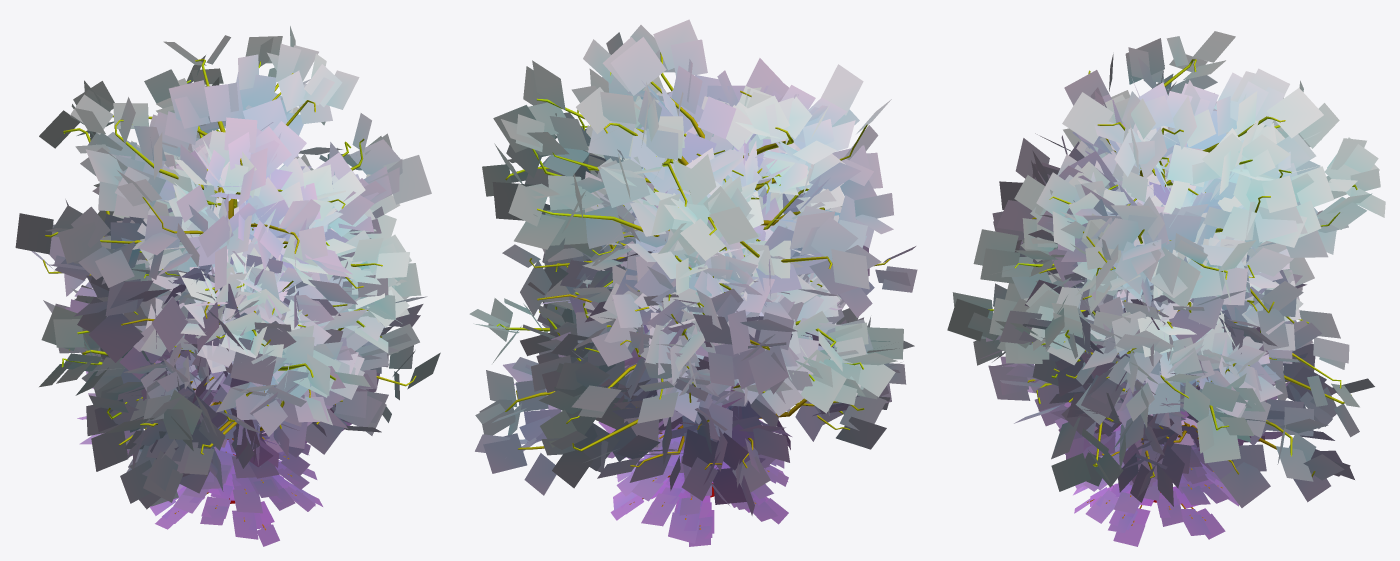
The model's file is trees.glb.
3 renders of one model, left to right at view 1: azimuth 30°, elevation 25°; view 2: azimuth 150°, elevation 25°; view 3: azimuth 270°, elevation 25°, orthographic. The views are drawn at different scales.
Parts seen in each view (by area): view 1: plane, oak_a, beech, lime_b, oak_b, lime_a, conifer; view 2: plane, beech, oak_a, lime_b, lime_a, oak_b, conifer; view 3: plane, beech, lime_b, oak_a, oak_b, lime_a, conifer.
Part boxes in pixels (x1,y1,x2,y2): plane: [15, 26, 431, 503]; oak_a: [39, 247, 419, 503]; beech: [43, 187, 440, 509]; lime_b: [92, 131, 427, 405]; oak_b: [56, 279, 409, 476]; lime_a: [96, 78, 362, 402]; conifer: [150, 383, 322, 546]; plane: [482, 19, 917, 496]; beech: [469, 187, 904, 515]; oak_a: [520, 183, 914, 497]; lime_b: [542, 92, 845, 386]; lime_a: [528, 76, 842, 361]; oak_b: [523, 265, 886, 492]; conifer: [610, 418, 788, 546]; plane: [992, 31, 1385, 353]; beech: [979, 169, 1374, 507]; lime_b: [973, 127, 1322, 420]; oak_a: [947, 257, 1314, 502]; oak_b: [988, 273, 1302, 487]; lime_a: [1020, 90, 1292, 386]; conifer: [1073, 414, 1238, 546].
Size of the model in its own units: 19.33 by 22.13 by 19.22.
